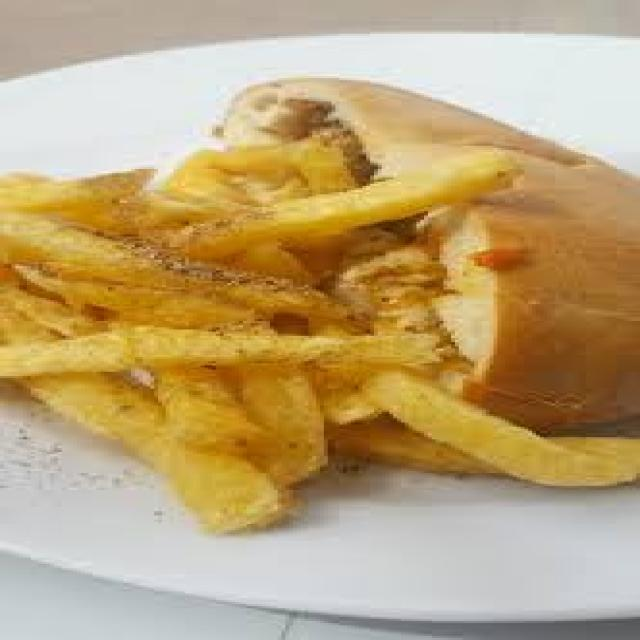Sandwitch tounsi: (235, 74, 640, 469)
